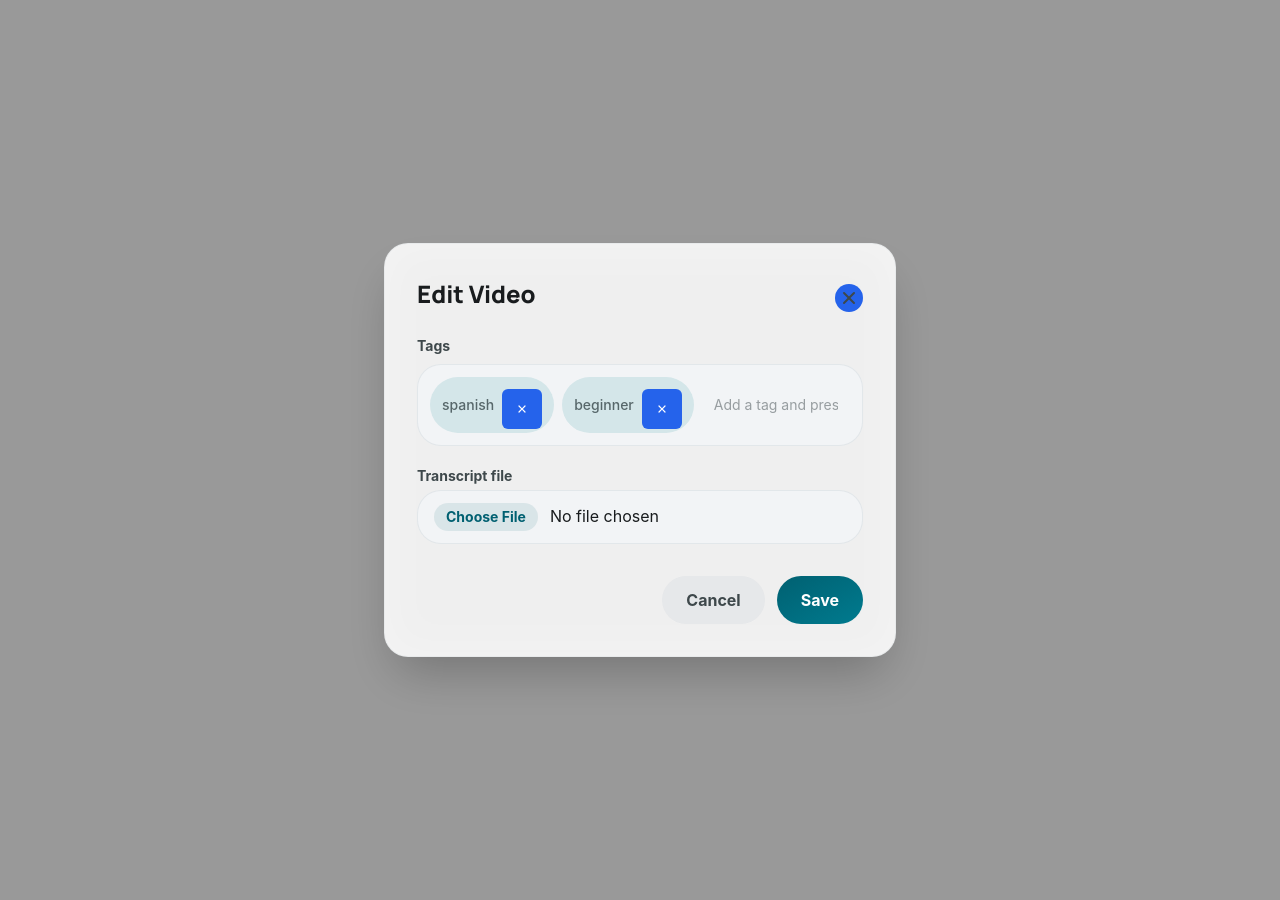
Scenario: EditVideoModal › removes a tag when x button is clicked
Click the button with test id "remove-tag-spanish".
click(522, 409)  # box x1=502 y1=389 x2=542 y2=429
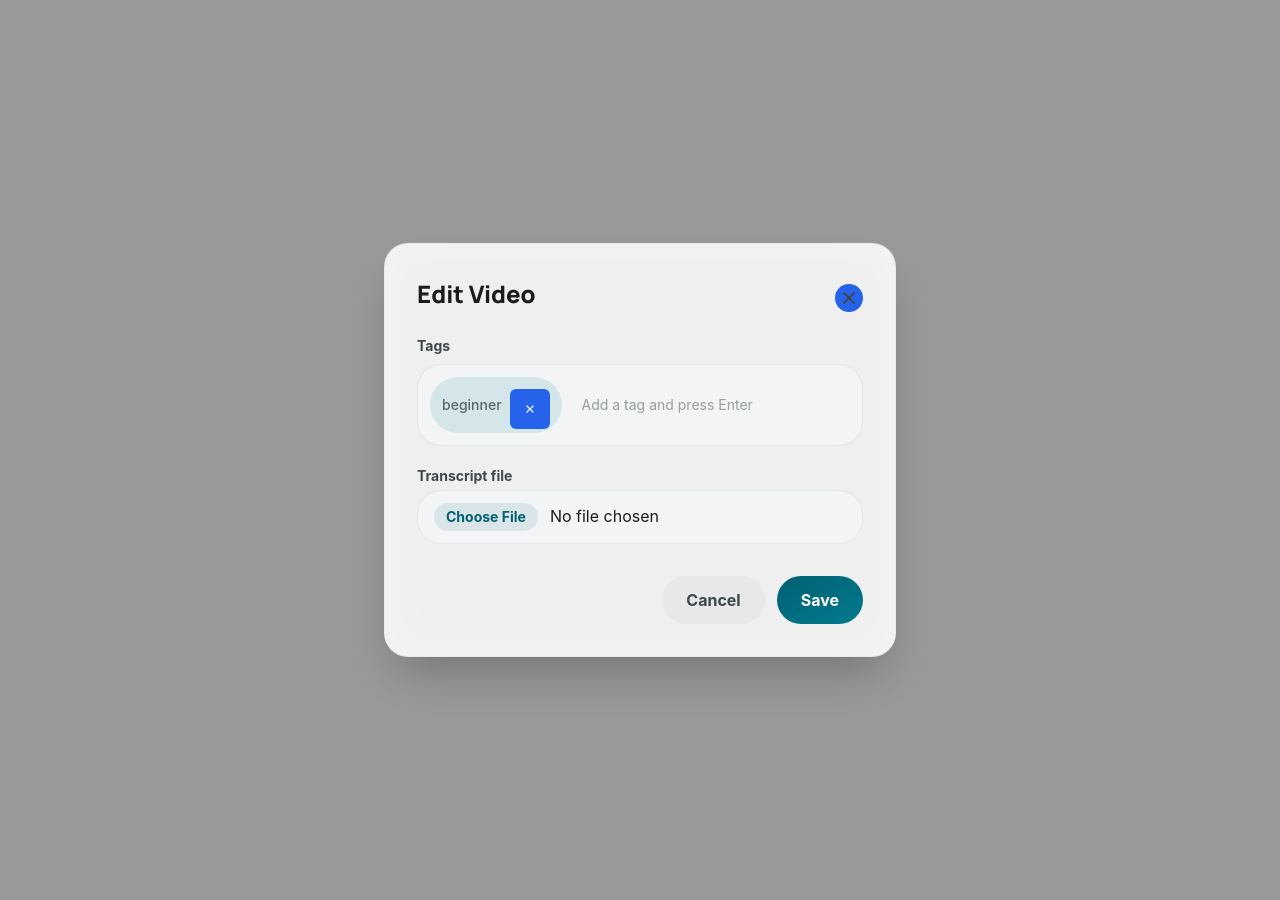
expect the text "beginner" is shown: met, box x1=430 y1=377 x2=562 y2=433
expect the text "spanish" is gone: met
